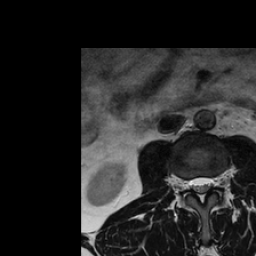CCS_normal: (197, 170, 205, 210)
LFS_normal: (214, 169, 222, 193)
LLS_normal: (206, 170, 213, 195)
RFS_normal: (181, 171, 189, 198)
RLS_normal: (189, 171, 197, 201)
